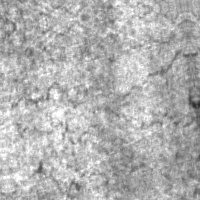crazing: (6, 46, 199, 152), (5, 154, 85, 199)
